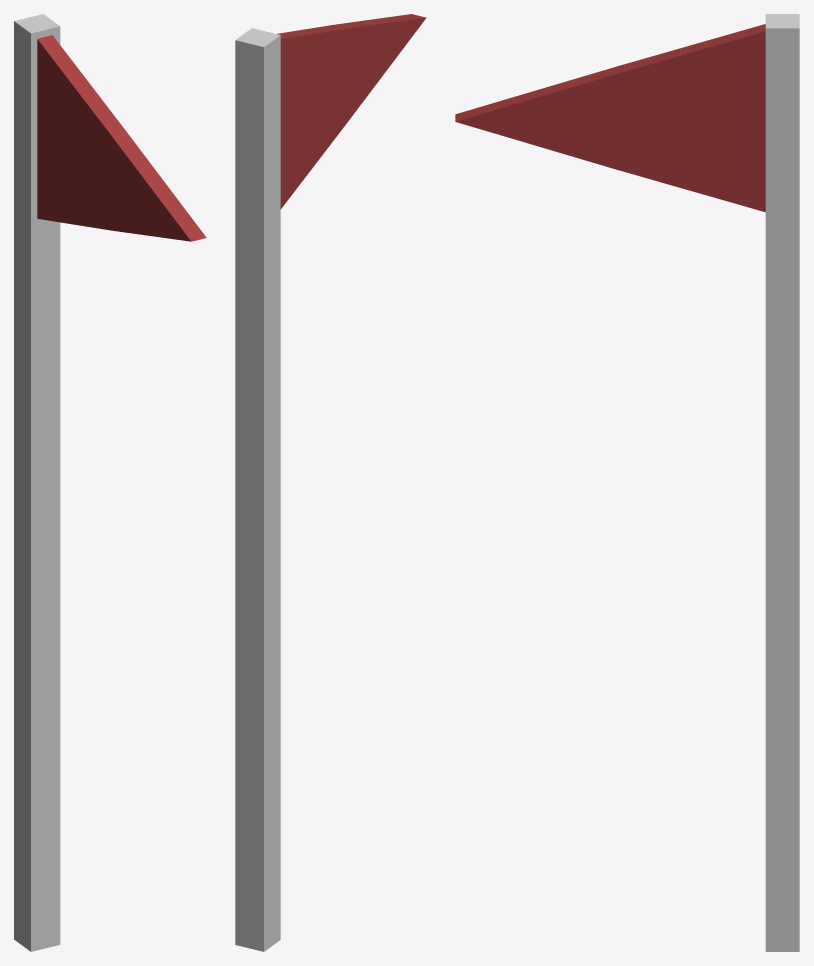
Rendered from flag.fbx.
3 renders of one model, left to right at view 1: azimuth 30°, elevation 25°; view 2: azimuth 150°, elevation 25°; view 3: azimuth 270°, elevation 25°, orthographic. The views are drawn at different scales.
Parts seen in each view (by area): view 1: pCube2, pCube3; view 2: pCube2, pCube3; view 3: pCube2, pCube3.
Part boxes in pixels (x1,y1,x2,y2): pCube2: [14, 14, 60, 951]; pCube3: [37, 35, 206, 241]; pCube2: [235, 28, 280, 951]; pCube3: [277, 14, 426, 209]; pCube2: [765, 14, 799, 951]; pCube3: [455, 24, 765, 212].
Bounding box in the file's own units: 0.1 × 3 × 1.01.
